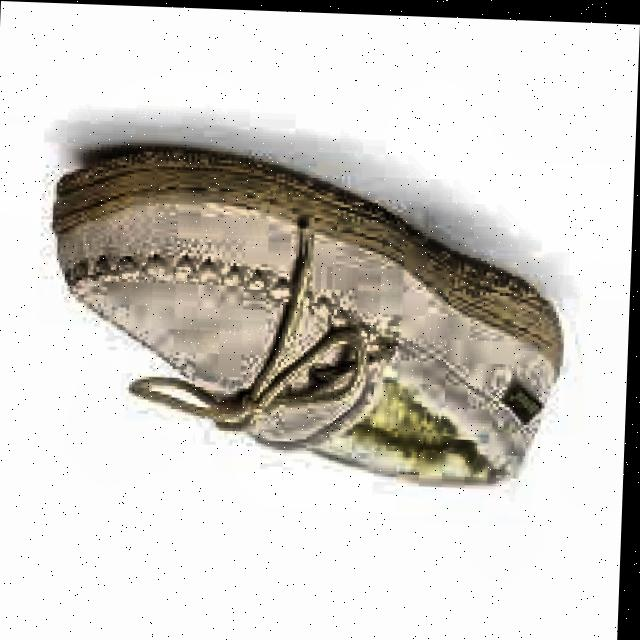shoes: (36, 141, 574, 504)
